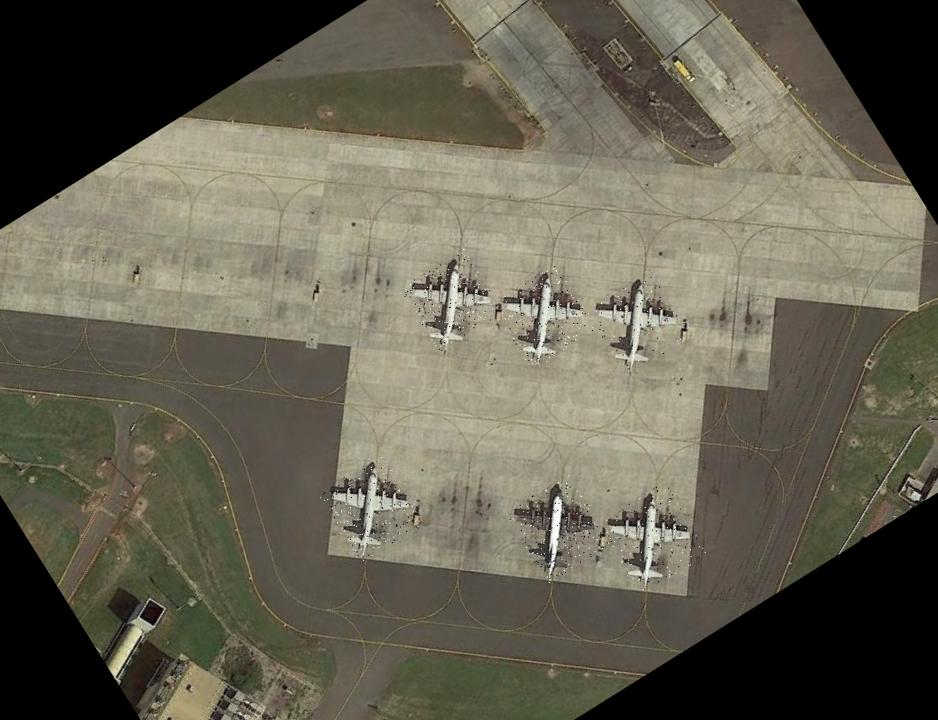A9: (594, 480, 709, 596), (504, 472, 614, 583), (317, 455, 424, 562), (490, 263, 597, 370), (585, 269, 692, 376), (400, 248, 503, 352)
